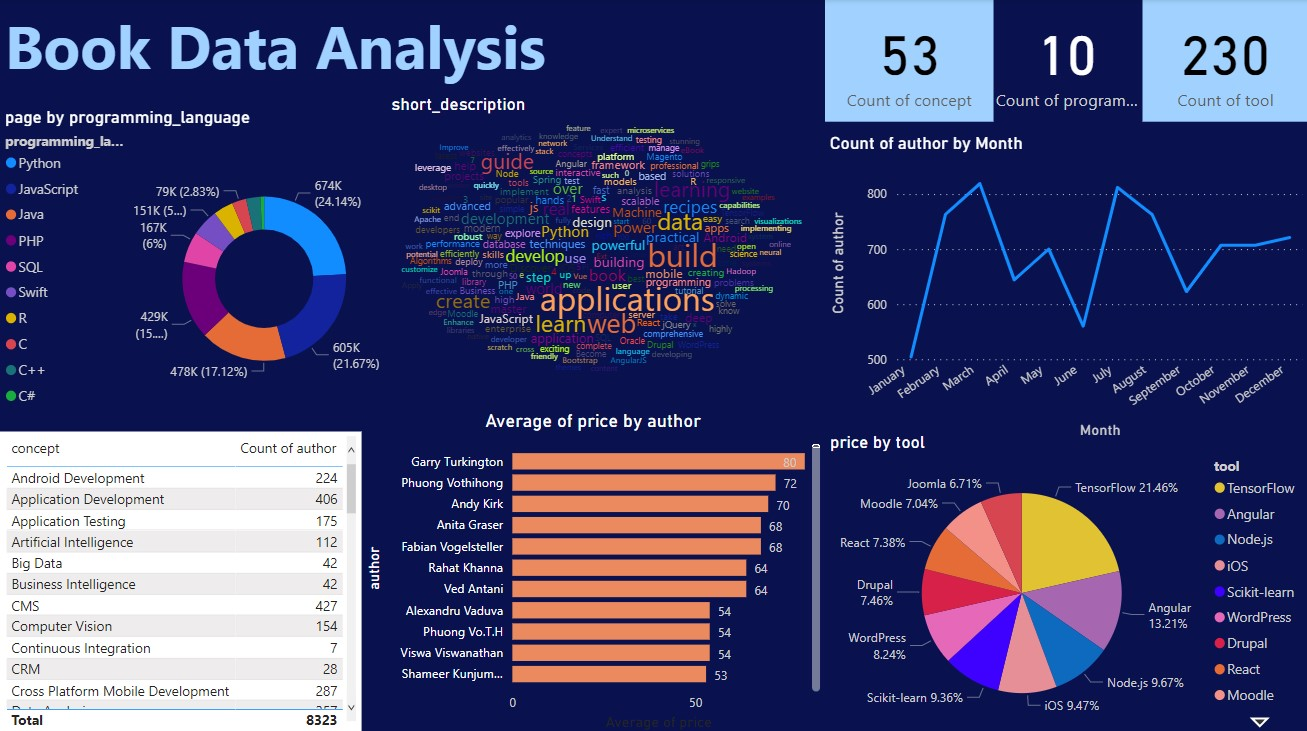

The dashboard page shown, as its layout file describes it:
{"tool":"powerbi","page":{"name":"Page 1","canvas":[1280,720],"ordinal":0},"visuals":[{"type":"pieChart","fields":{"Category":["book_data.tool"],"Y":["book_data.price"]},"box":[806.8,423,473.1,297],"z":0},{"type":"barChart","fields":{"Category":["book_data.author"],"Y":["book_data.price"]},"box":[353.3,402.2,453.5,317.8],"z":1000},{"type":"WordCloud1447959067750","fields":{"Category":["book_data.short_description"]},"box":[377.7,92.9,429.1,309.3],"z":2000},{"type":"lineChart","fields":{"Category":["book_data.release_date.Variation.Date Hierarchy.Month"],"Y":["book_data.author"]},"box":[806.8,130.8,473.1,303.2],"z":3000},{"type":"card","fields":{"Values":["book_data.programming_language"]},"box":[964.5,0,157.7,119.8],"z":4000},{"type":"card","fields":{"Values":["book_data.tool"]},"box":[1117.3,0,162.6,119.8],"z":5000},{"type":"card","fields":{"Values":["book_data.concept"]},"box":[806.8,0,165,119.8],"z":6000},{"type":"textbox","box":[0,0,567.2,92.9],"z":7000},{"type":"tableEx","fields":{"Values":["book_data.concept","book_data.author"]},"box":[0,423,353.3,297],"z":8000},{"type":"donutChart","fields":{"Category":["book_data.programming_language"],"Y":["book_data.page"]},"box":[0,105.1,394.8,317.8],"z":9000}]}

Visuals, with their boxes in screenshot pixels (x1, y1, x2, y2), scaled from the page's 1280x720 canvas onto the 1307x731 screenshot:
pieChart - book_data.tool x book_data.price: locate(824, 429, 1306, 730)
barChart - book_data.author x book_data.price: locate(361, 408, 824, 730)
WordCloud1447959067750 - book_data.short_description: locate(386, 94, 824, 408)
lineChart - book_data.release_date.Variation.Date Hierarchy.Month x book_data.author: locate(824, 133, 1306, 441)
card - book_data.programming_language: locate(985, 0, 1146, 122)
card - book_data.tool: locate(1141, 0, 1306, 122)
card - book_data.concept: locate(824, 0, 992, 122)
textbox: locate(0, 0, 579, 94)
tableEx - book_data.concept x book_data.author: locate(0, 429, 361, 730)
donutChart - book_data.programming_language x book_data.page: locate(0, 107, 403, 429)
